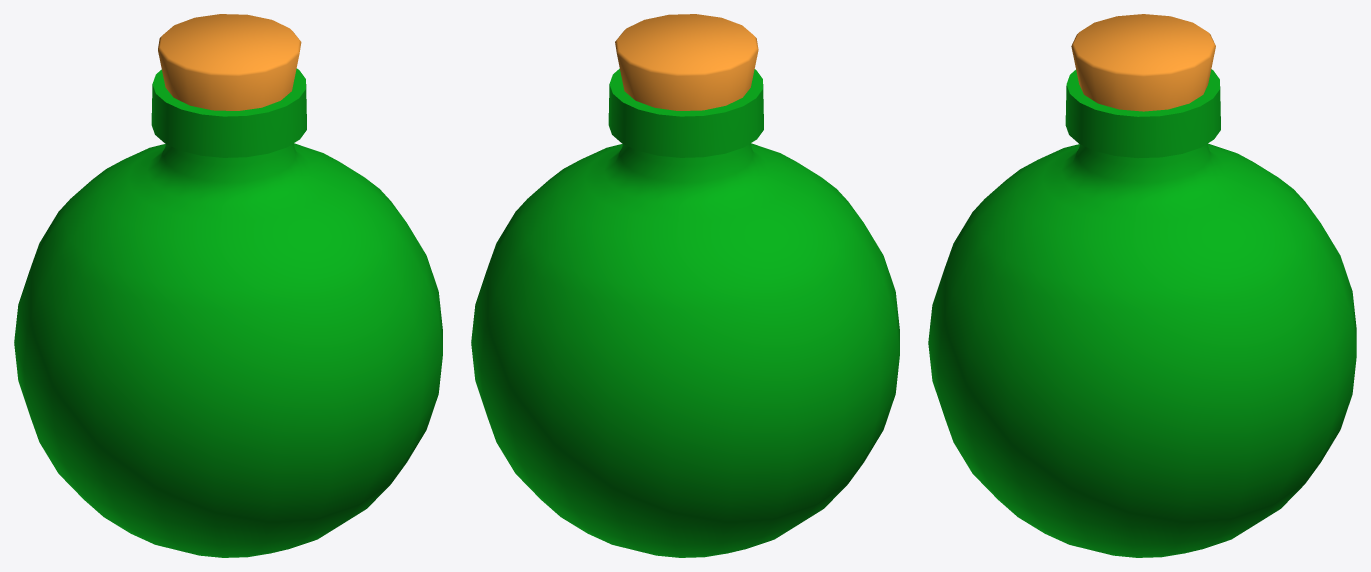
The model's file is Potion_Bottle_03.glb.
3 renders of one model, left to right at view 1: azimuth 30°, elevation 25°; view 2: azimuth 150°, elevation 25°; view 3: azimuth 270°, elevation 25°, orthographic.
Parts seen in each view (by area): view 1: Potion_Bottle_03; view 2: Potion_Bottle_03; view 3: Potion_Bottle_03.
Boxes of the visible parts, <box> form: Potion_Bottle_03: <box>14,14,442,557</box>; Potion_Bottle_03: <box>471,14,899,557</box>; Potion_Bottle_03: <box>928,14,1356,557</box>.
Size of the model in its own units: 0.2037 by 0.2593 by 0.2031.
1 material, 1 textured.
